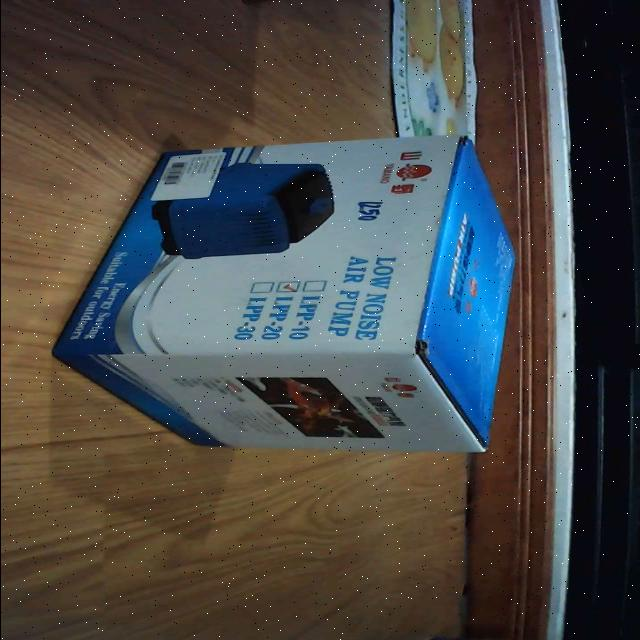YAMANO_LPP_20: (44, 126, 536, 468)
